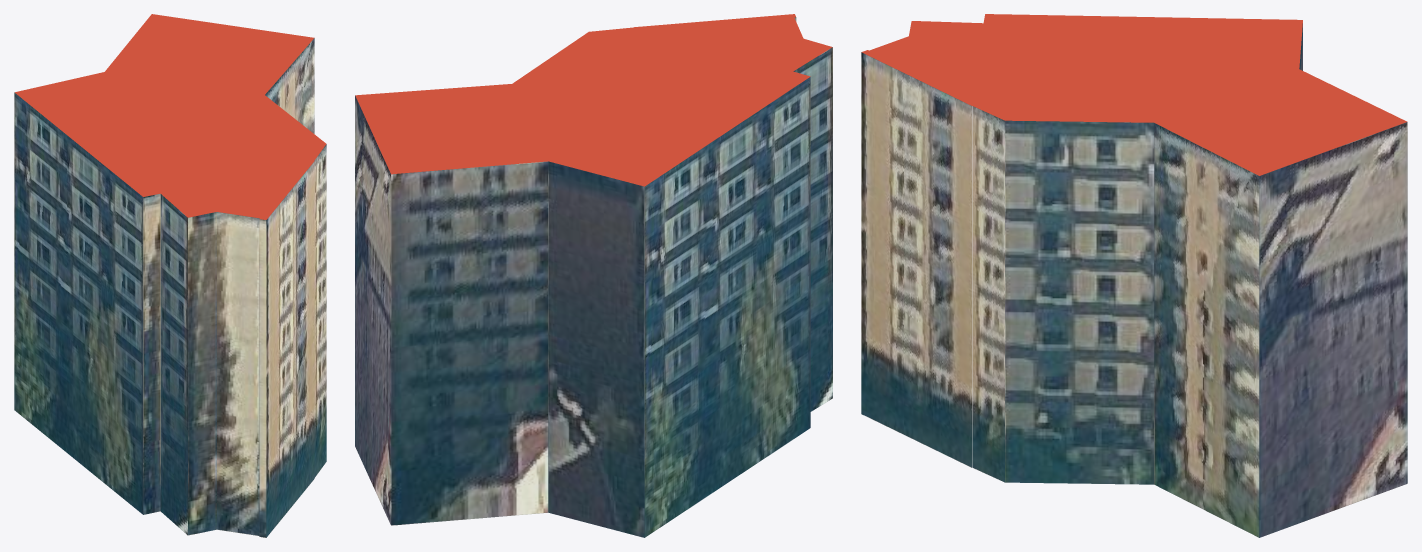
The picture shows the model from 3 angles, left to right: view 1: azimuth 30°, elevation 25°; view 2: azimuth 150°, elevation 25°; view 3: azimuth 270°, elevation 25°; orthographic projection. The views are drawn at different scales.
Bounding box in the file's own units: 21.89 × 22.79 × 31.18.
3 materials, 1 textured.
